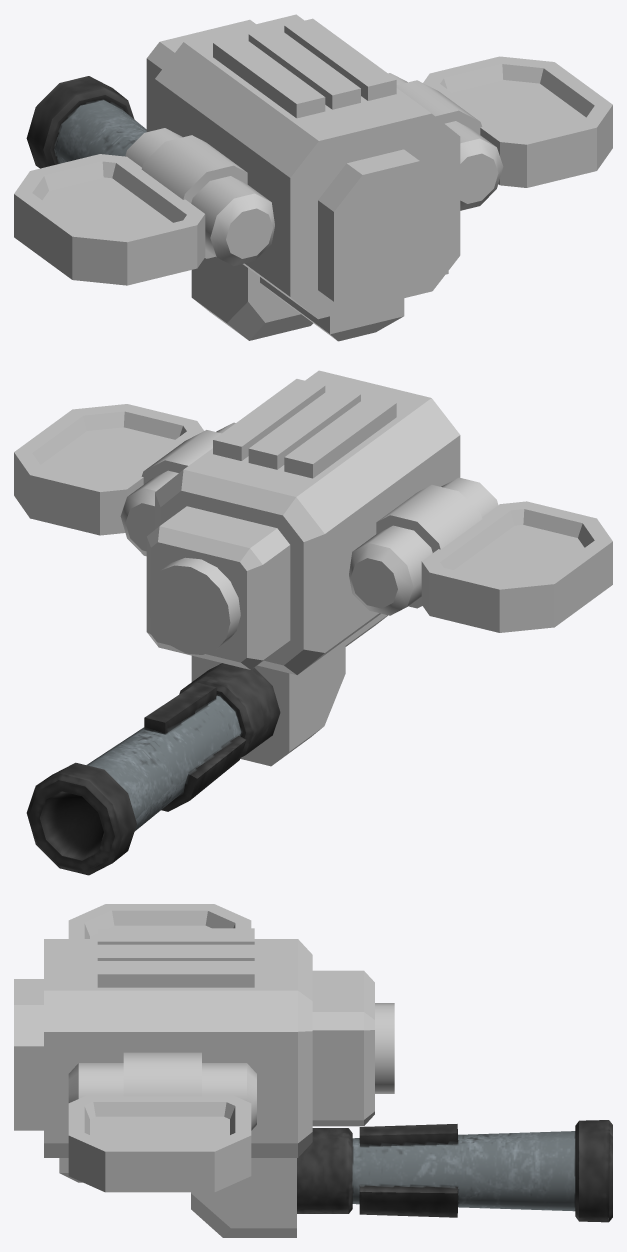
The model's file is GJ_Bot_Shotgun.fbx.
3 renders of one model, top to bottom at view 1: azimuth 30°, elevation 25°; view 2: azimuth 150°, elevation 25°; view 3: azimuth 270°, elevation 25°, orthographic. The views are drawn at different scales.
Visible parts, largest first — view 1: GJ_Bot_Shotgun; view 2: GJ_Bot_Shotgun; view 3: GJ_Bot_Shotgun.
Part boxes in pixels (box(x1,y1,x2,y2)): GJ_Bot_Shotgun: box(14, 14, 612, 341); GJ_Bot_Shotgun: box(14, 370, 612, 875); GJ_Bot_Shotgun: box(14, 904, 612, 1237).
Size of the model in its own units: 10.85 by 5.57 by 11.1.
